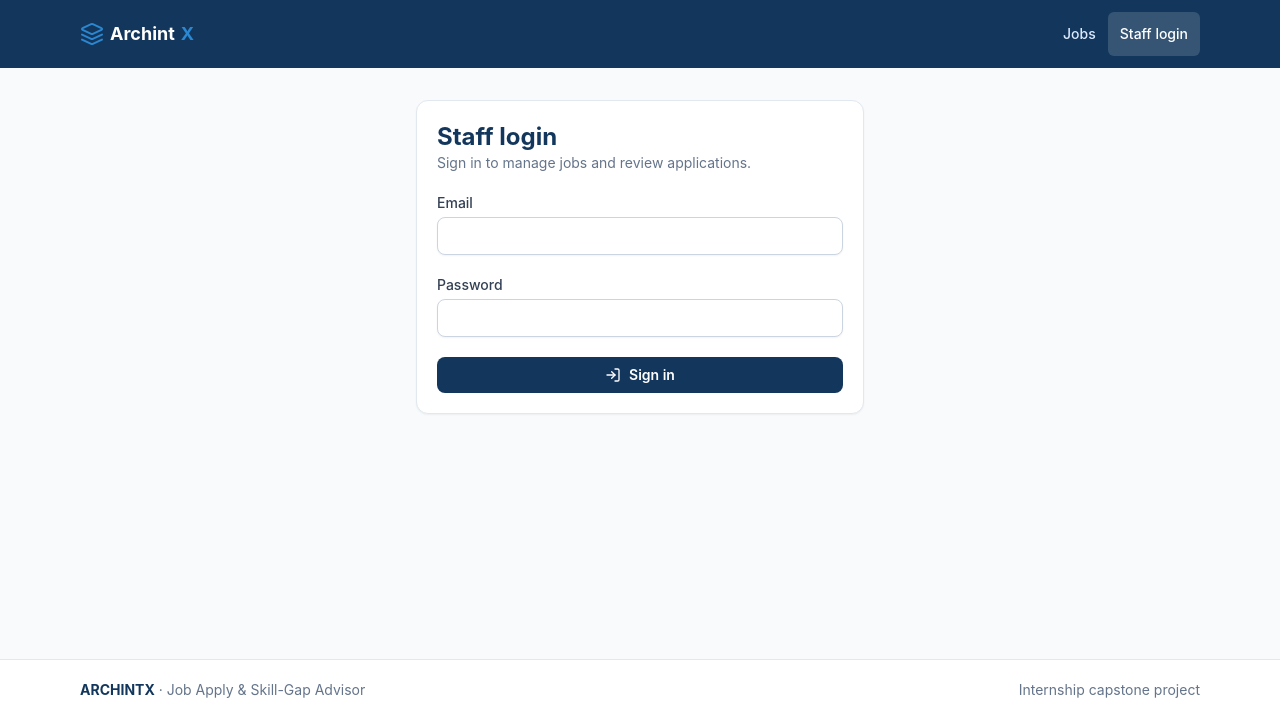
Scenario: staff login › validates the form
The image size is (1280, 720).
What coordinates should you click on to do the following:
click the button "Sign in"
I would click on:
 (640, 375)
Its box is x1=437 y1=357 x2=843 y2=393.
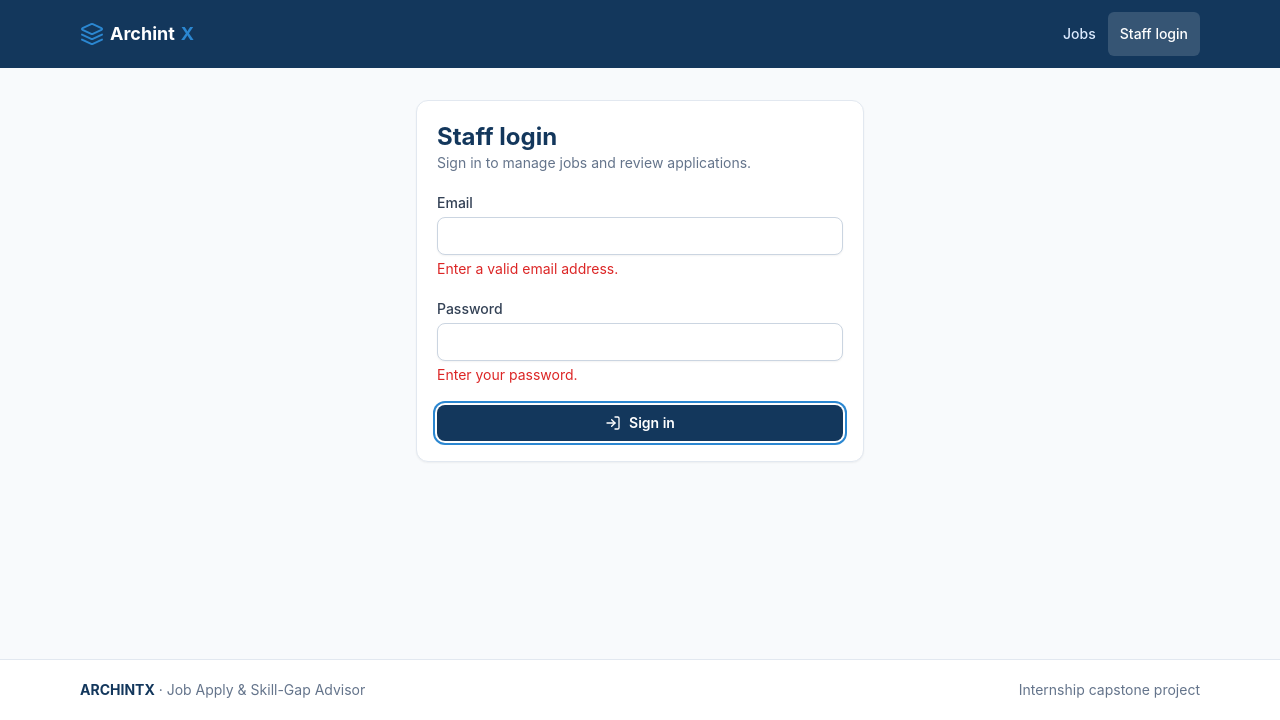
Expected: the text "Enter a valid email address." is shown, x1=437 y1=260 x2=618 y2=277
Expected: the text "Enter your password." is shown, x1=437 y1=366 x2=578 y2=383
